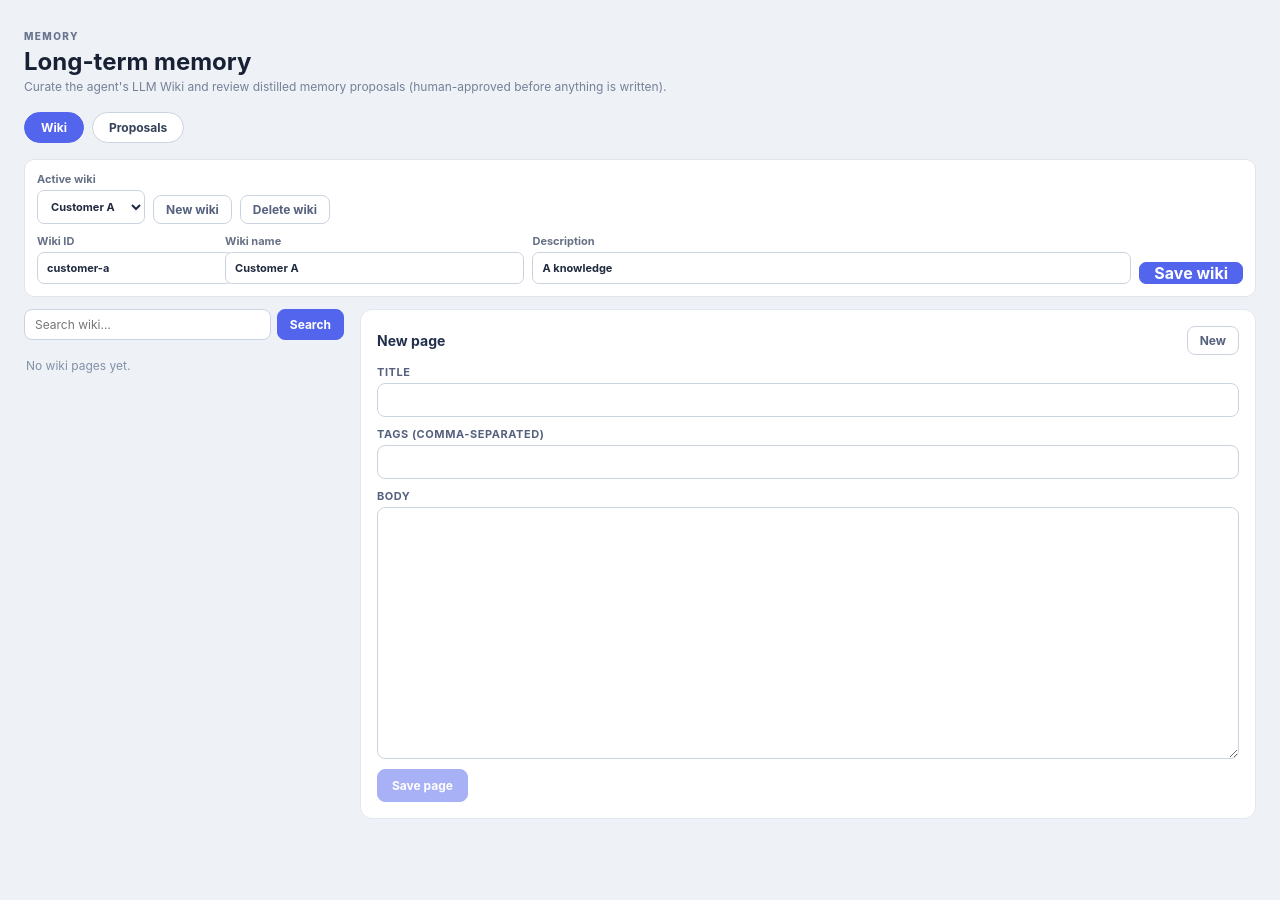
Test case: MemoryPage › 新規ページを保存する（title/body 必須）
expect the list item "No wiki pages yet." is shown: met, box x1=26 y1=358 x2=130 y2=373
expect the button "Save page" is disabled: met, box x1=377 y1=769 x2=468 y2=802
Type "New note" into the field labelled "Title" at (808, 400), box x1=377 y1=383 x2=1239 y2=417
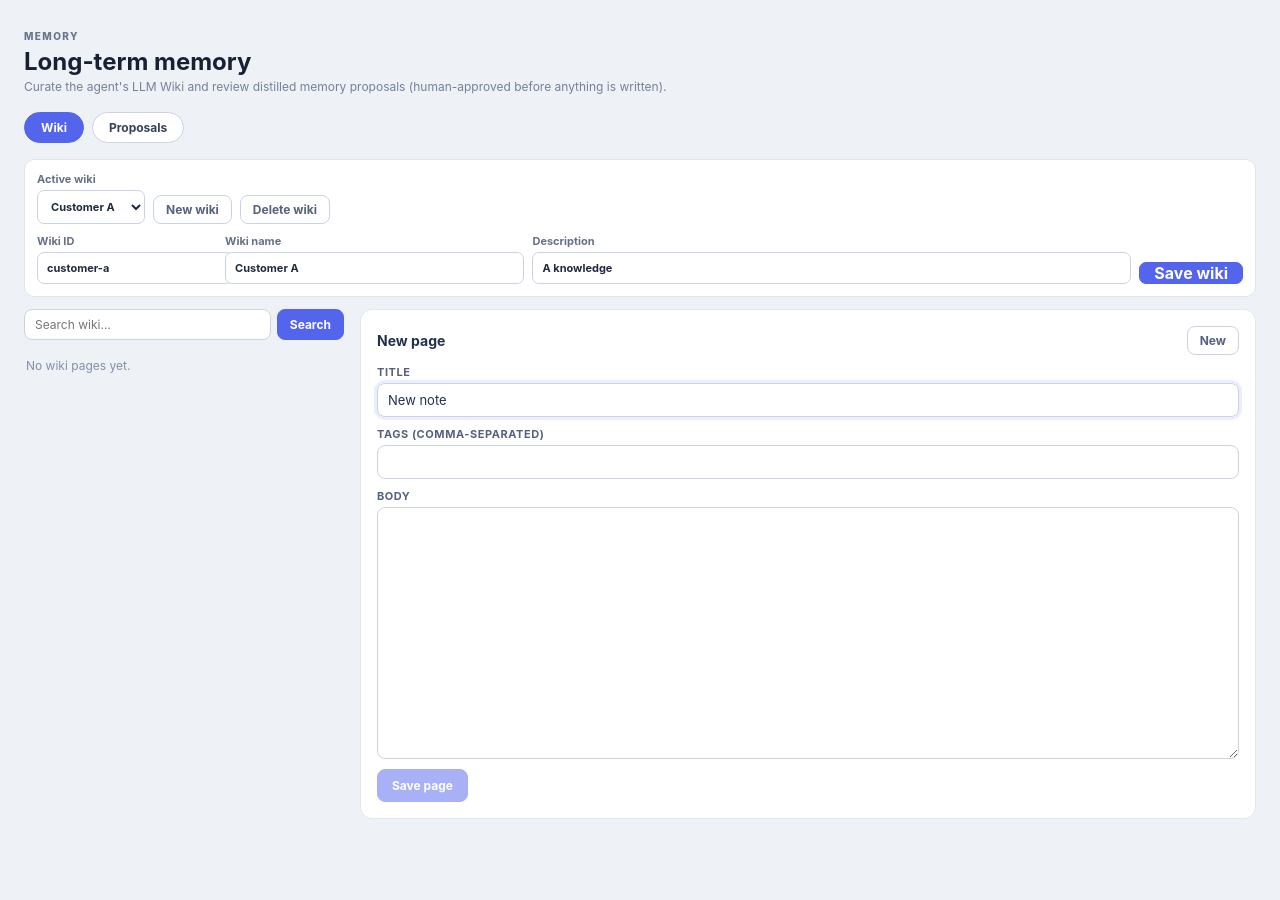
Type "Some knowledge." into the text box labelled "Body" at (808, 633), box x1=377 y1=507 x2=1239 y2=759
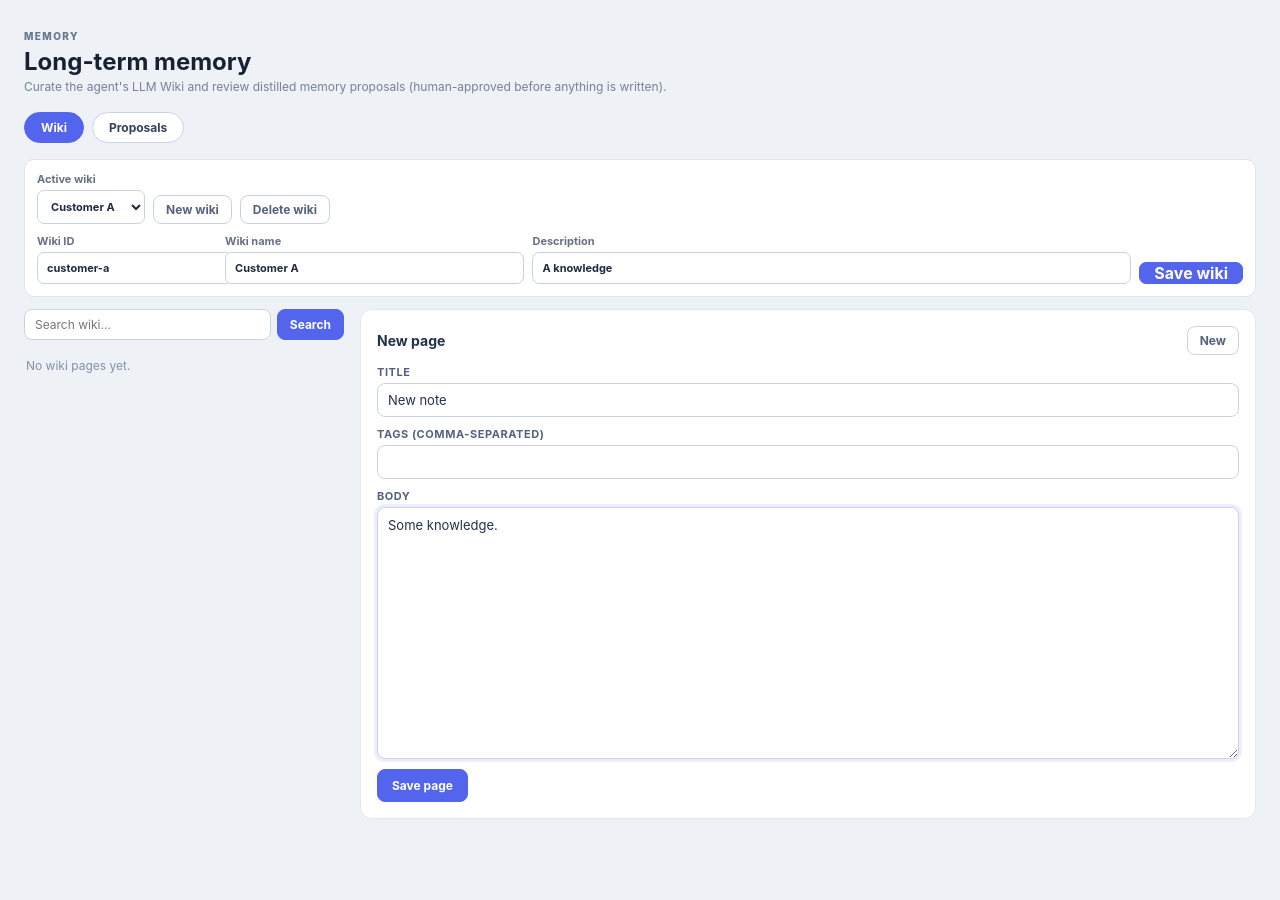
Type "a, b" into the field labelled "Tags (comma-separated)" at (808, 462), box x1=377 y1=445 x2=1239 y2=479
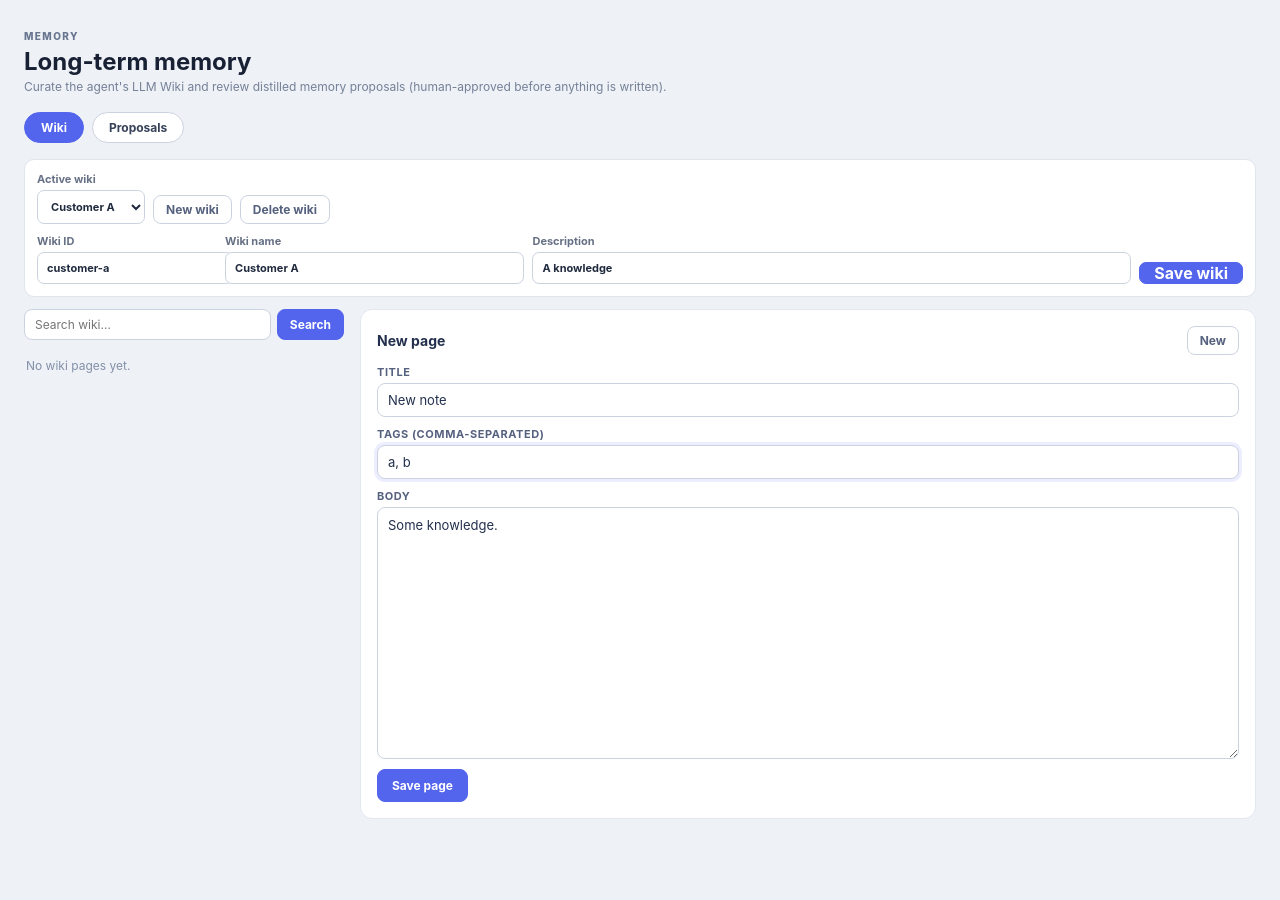
Click the button "Save page" at (422, 786), box x1=377 y1=769 x2=468 y2=802
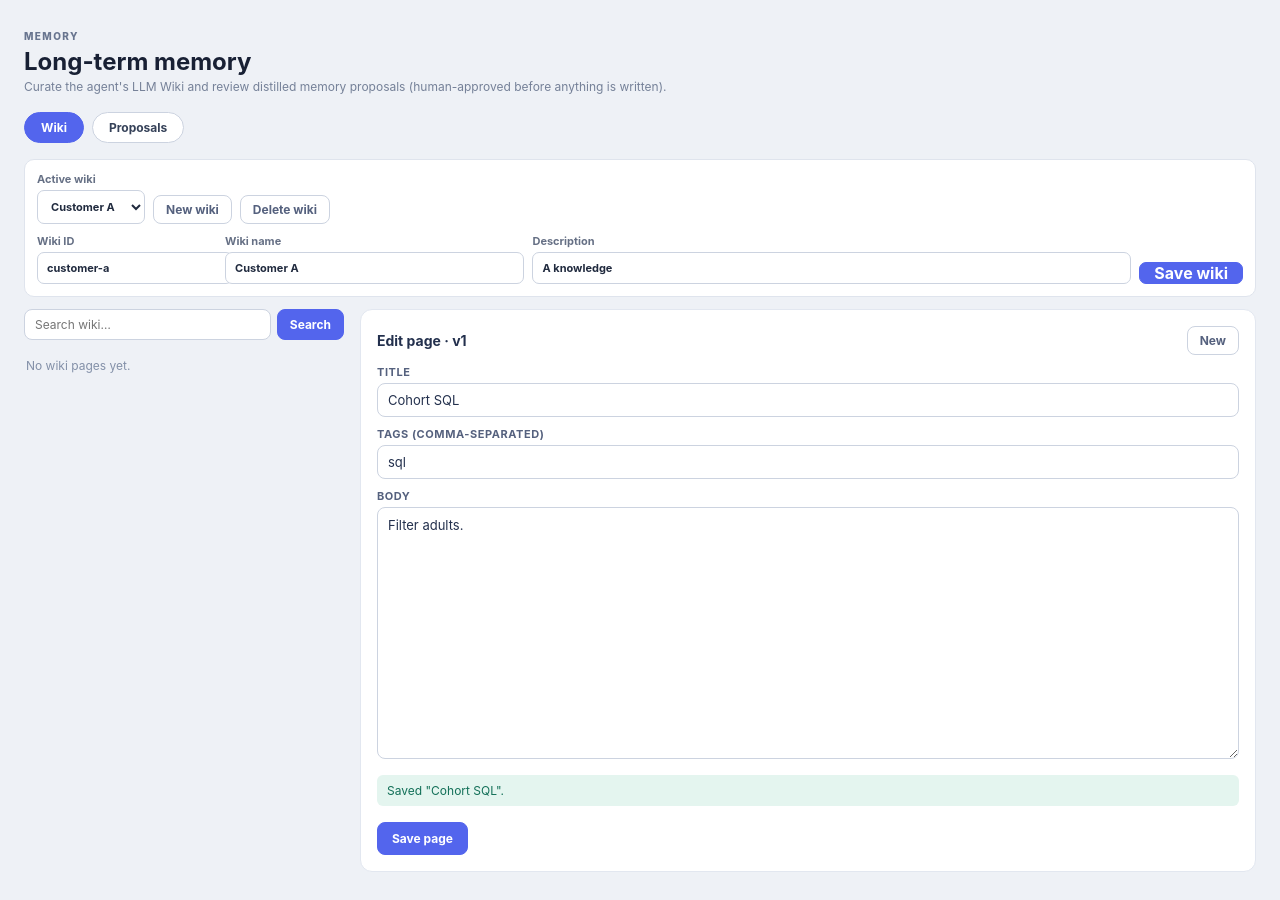
expect the text "Saved \"Cohort SQL\"." is shown: met, box x1=377 y1=775 x2=1239 y2=806
